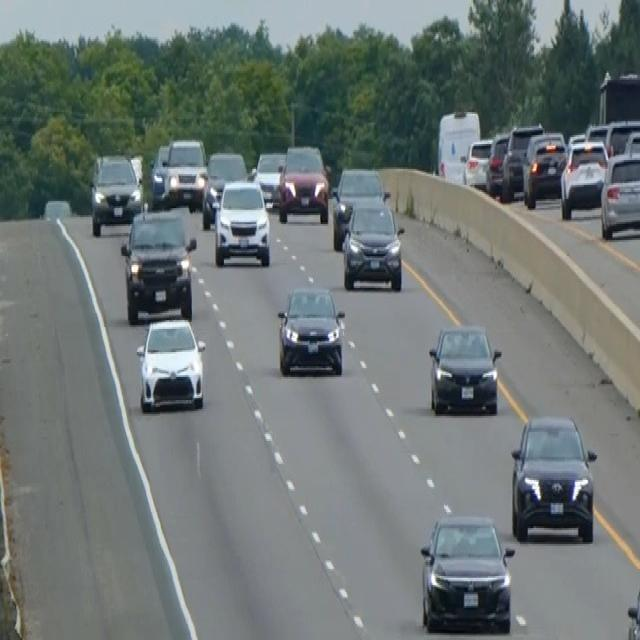car: (418, 510, 514, 633), (509, 411, 597, 544), (427, 320, 502, 416), (135, 313, 206, 412), (276, 283, 346, 377), (341, 198, 404, 292), (213, 176, 271, 267), (330, 163, 389, 249), (89, 149, 142, 235), (277, 142, 329, 224), (559, 137, 609, 219), (201, 150, 248, 228), (599, 149, 639, 240), (521, 130, 567, 208), (500, 121, 543, 201), (162, 135, 207, 206), (252, 149, 286, 208), (462, 135, 493, 189), (485, 130, 509, 196), (149, 142, 170, 203)
jeep: (119, 206, 197, 324)
minibus: (435, 107, 481, 185)
